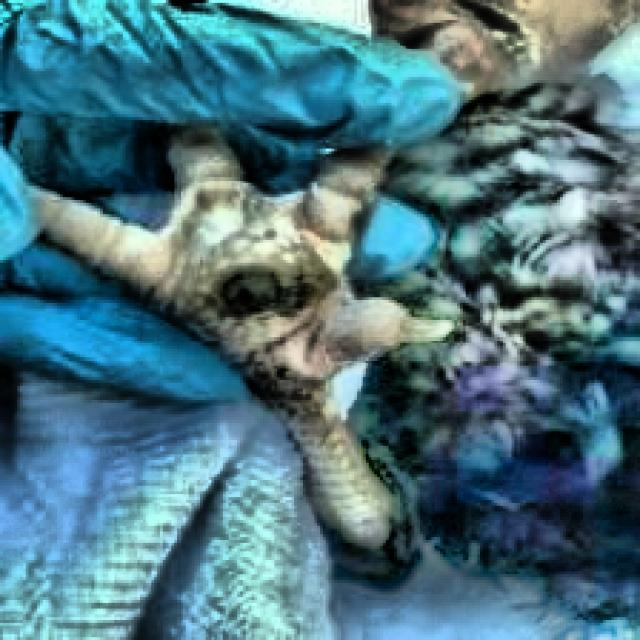Bumble foot: (26, 117, 451, 552)
